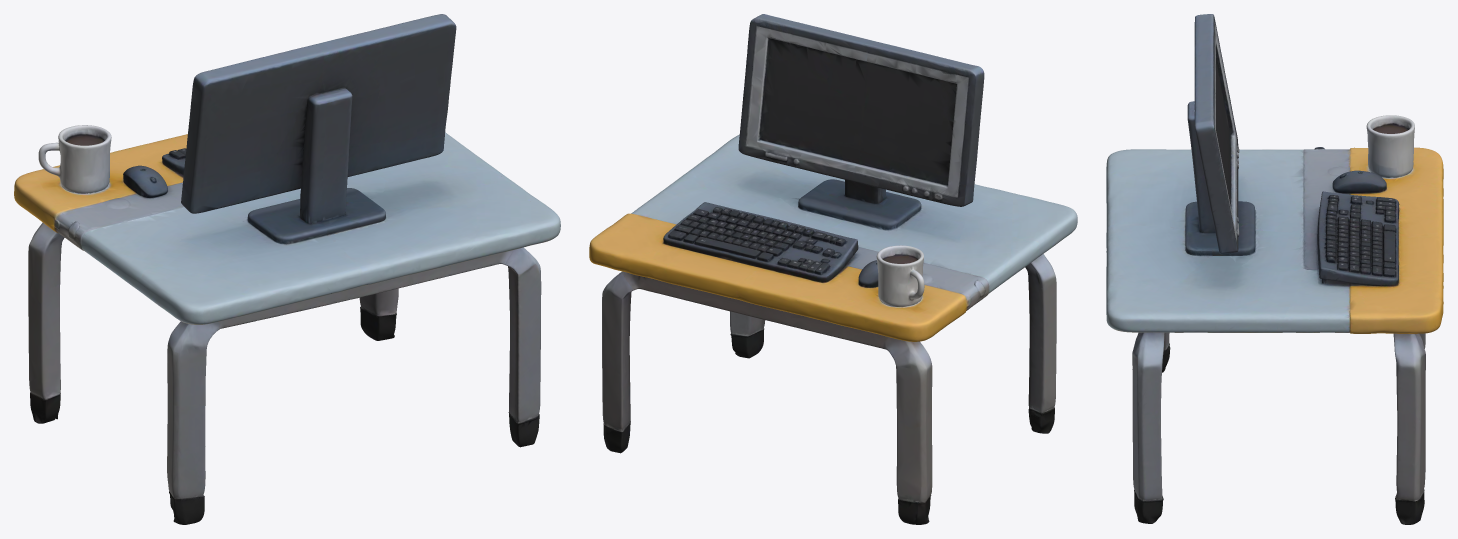
The model's file is desk.glb.
3 views of the same model, side by side, from view 1: azimuth 30°, elevation 25°; view 2: azimuth 150°, elevation 25°; view 3: azimuth 270°, elevation 25° (orthographic). The views are drawn at different scales.
Parts seen in each view (by area): view 1: aiprintgen_node_0110556c-5cac-4c82-914e-5ac8e7f4b85b; view 2: aiprintgen_node_0110556c-5cac-4c82-914e-5ac8e7f4b85b; view 3: aiprintgen_node_0110556c-5cac-4c82-914e-5ac8e7f4b85b.
Part boxes in pixels (box(x1,y1,x2,y2)): aiprintgen_node_0110556c-5cac-4c82-914e-5ac8e7f4b85b: box(14, 14, 560, 524); aiprintgen_node_0110556c-5cac-4c82-914e-5ac8e7f4b85b: box(589, 14, 1077, 524); aiprintgen_node_0110556c-5cac-4c82-914e-5ac8e7f4b85b: box(1106, 14, 1443, 524).
Bounding box in the file's own units: 0.9678 × 1 × 0.8083.
Materials: 1 (1 with a texture image).
